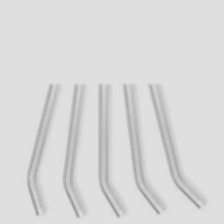drinking_straw: (142, 84, 212, 213), (118, 84, 171, 217), (20, 83, 63, 221), (91, 84, 130, 221), (60, 84, 91, 221)
